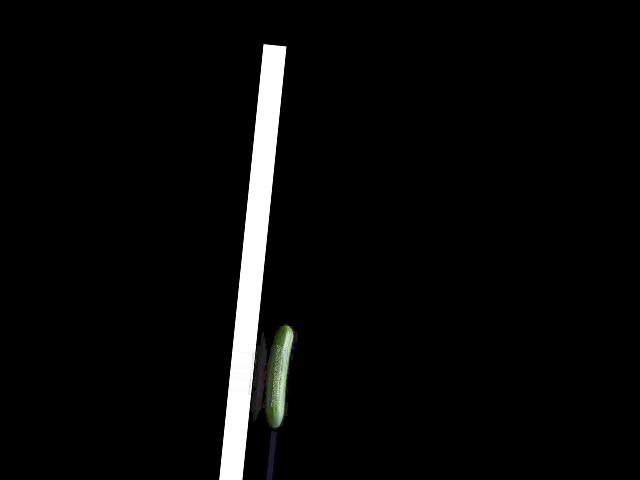cucumber: (267, 323, 293, 427)
